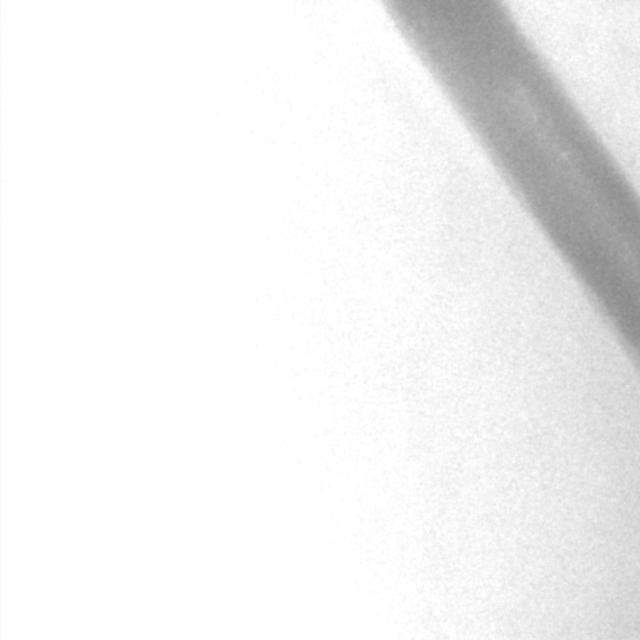air hole: (559, 146, 571, 161)
